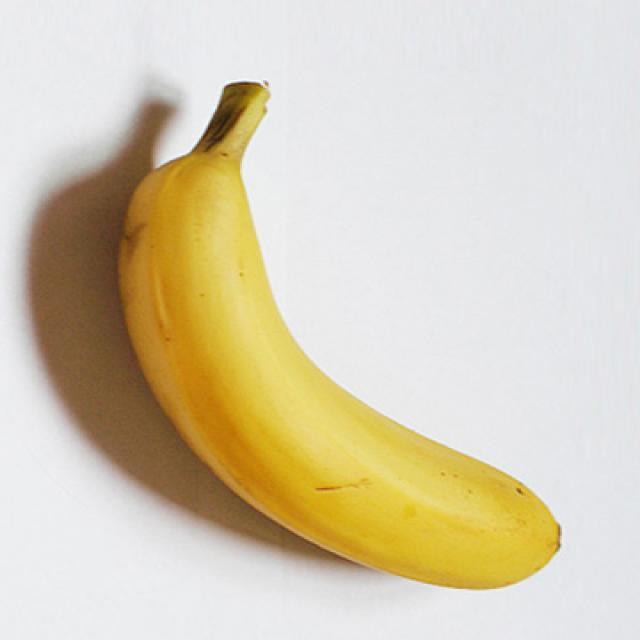Banana: (130, 82, 574, 586)
